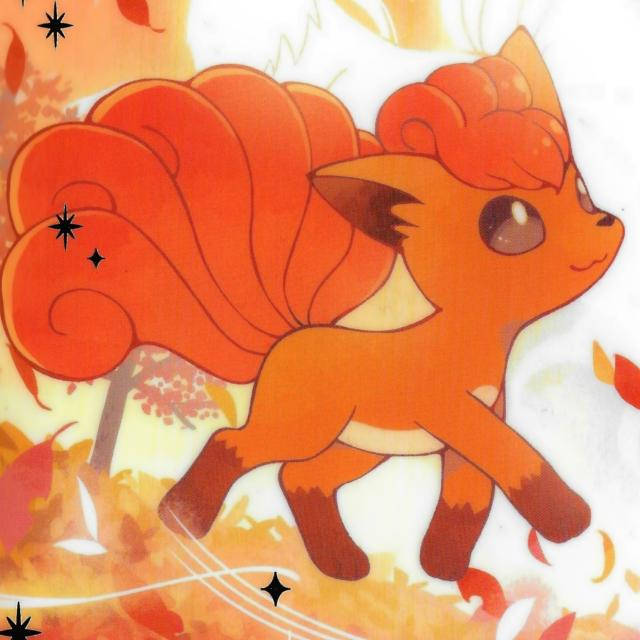Vulpix: (165, 58, 622, 556)
